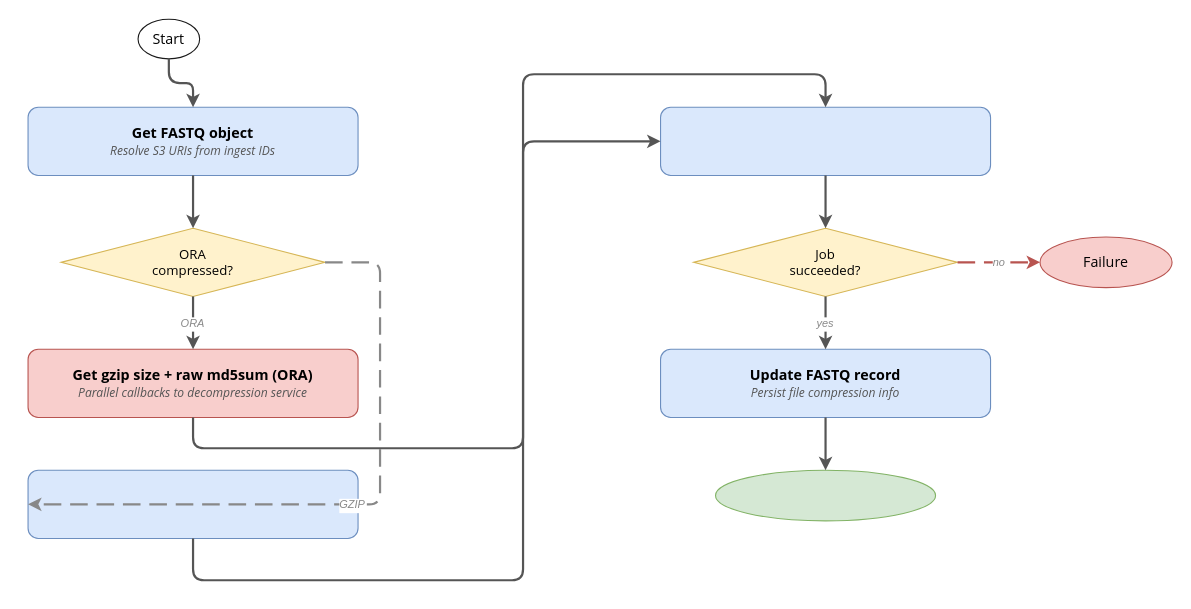
The diagram is 1191 pixels wide and 609 high, and some of its shapes have lost their labels. The shapes that lost their labels are listed below. From the top down, each one's box as (x1, y1, x2, y2) in pixels, then its label:
(659, 106, 991, 175): Update job status
(27, 469, 358, 538): Compute raw md5sum per file (GZIP) Map: ECS task for each R1/R2 file
(714, 469, 936, 521): Success
